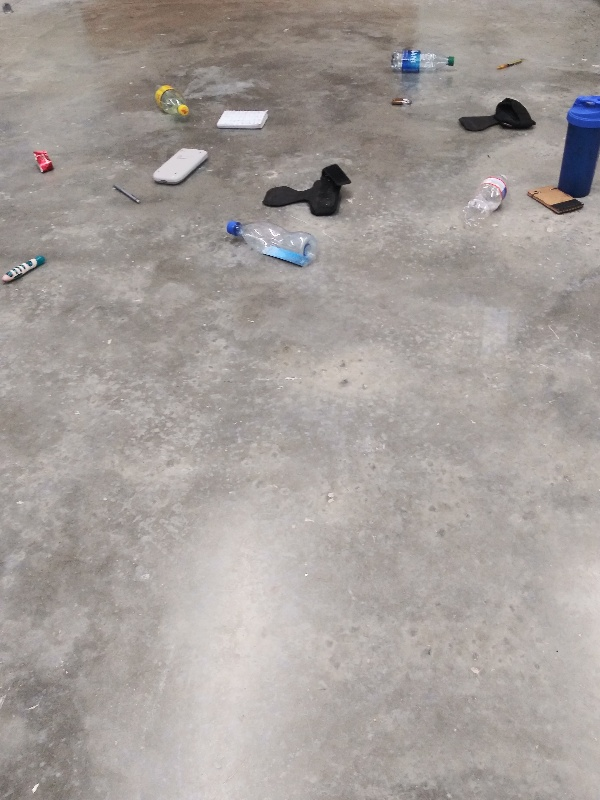bottle: (224, 216, 320, 268), (456, 170, 513, 235), (386, 47, 458, 76), (148, 80, 197, 120)
